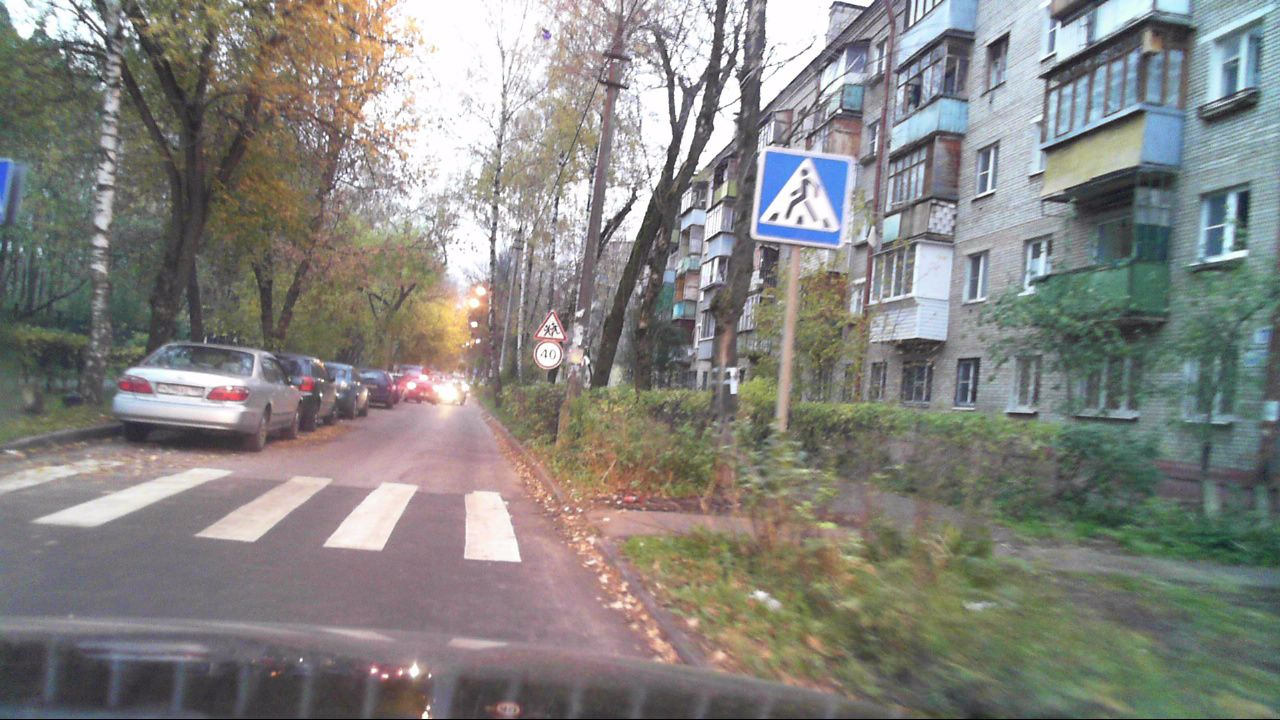speed_warning_40: (534, 340, 563, 369)
